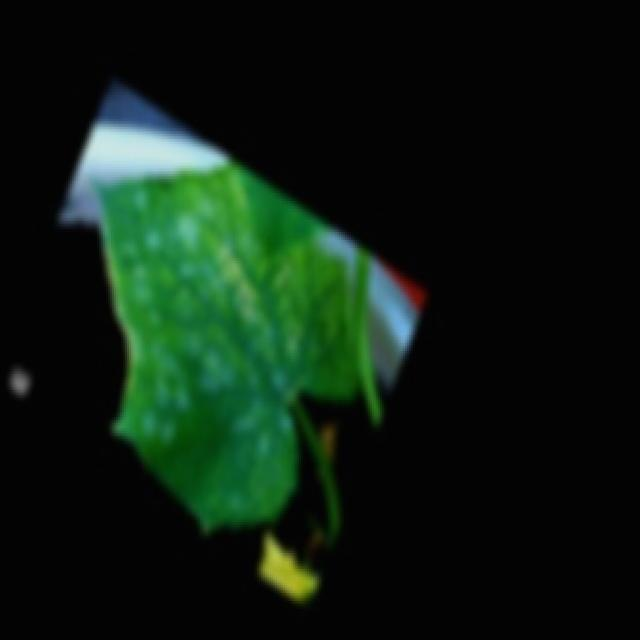Powdery_mildew_on_lettuce: (79, 90, 405, 542)
